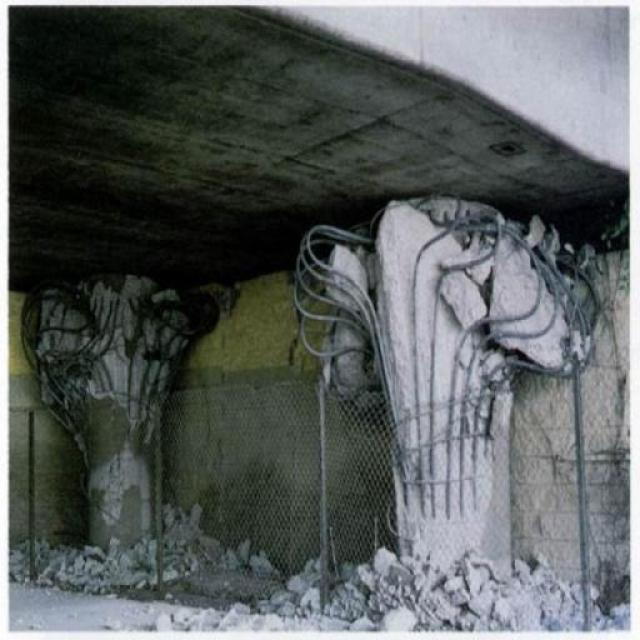D0w0: (298, 198, 591, 576), (24, 275, 216, 545)
